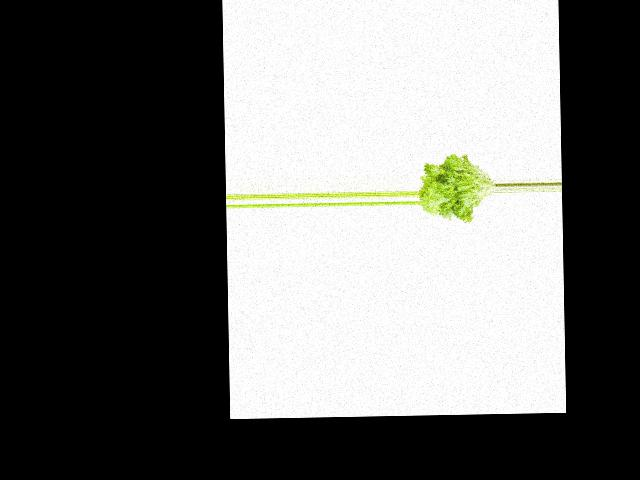lettuce: (418, 149, 497, 224)
